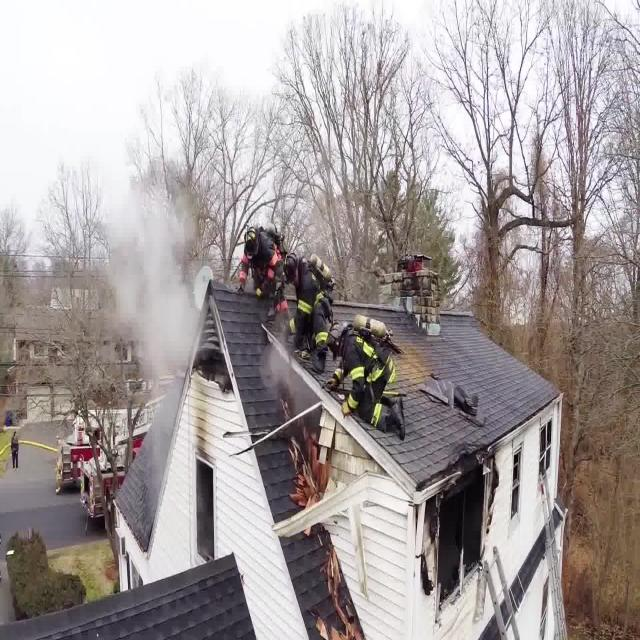Smoke: (105, 164, 203, 394)
